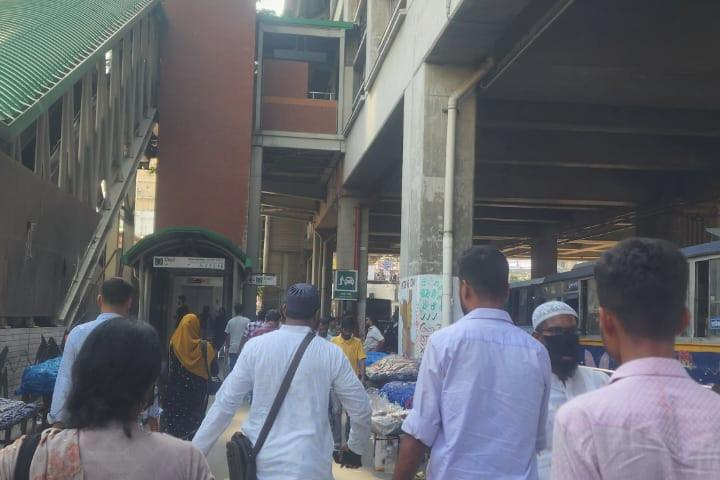Metro Dorp Up Pick up: (333, 269, 358, 300)
